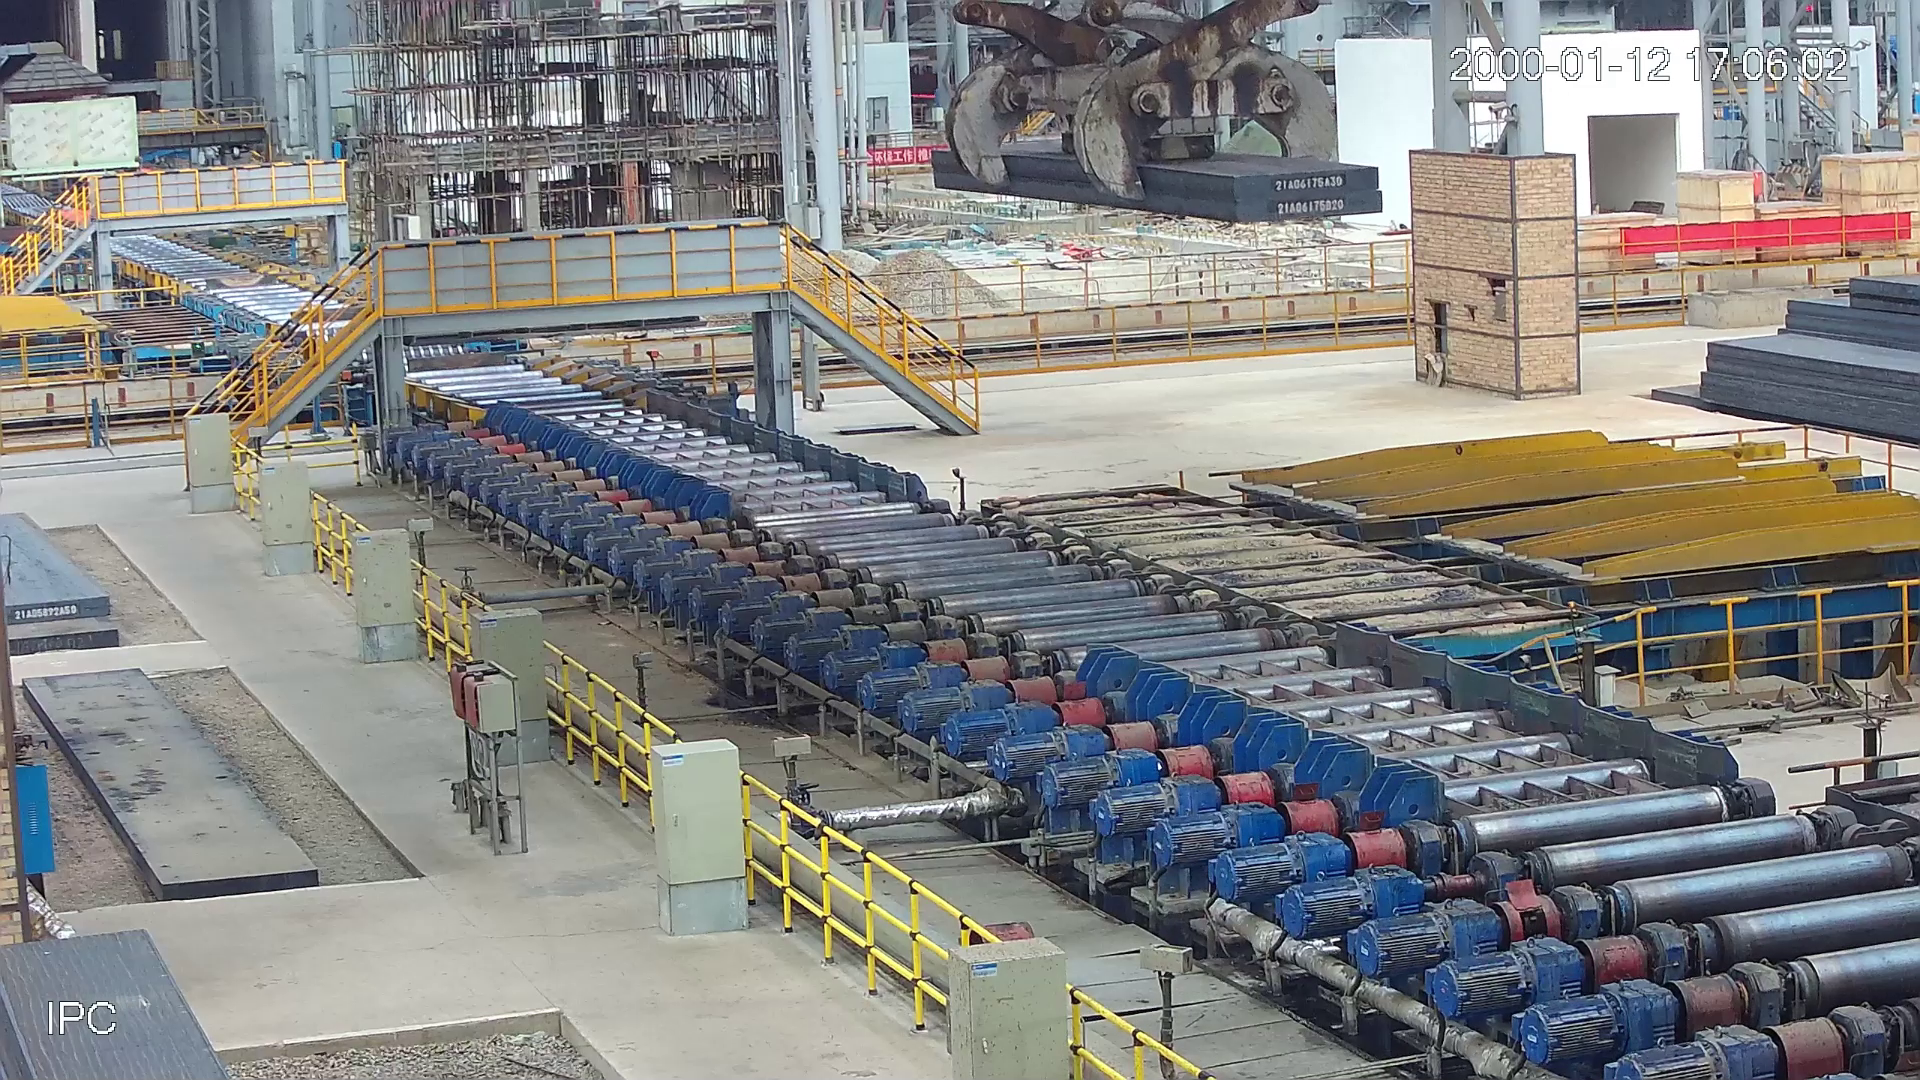craneandslab: (924, 1, 1382, 228)
